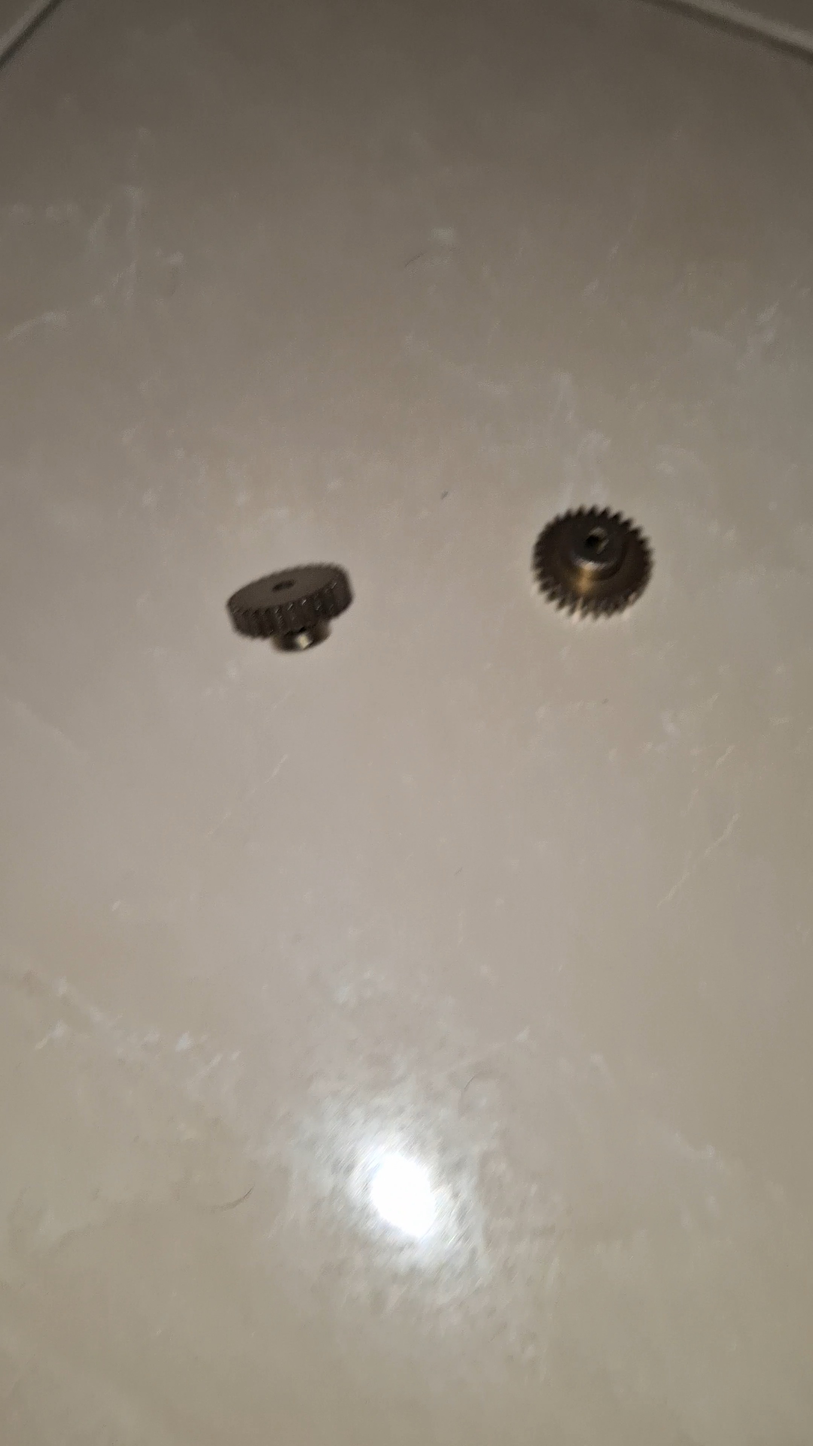spur gear: (533, 508, 652, 615), (228, 564, 353, 652)
